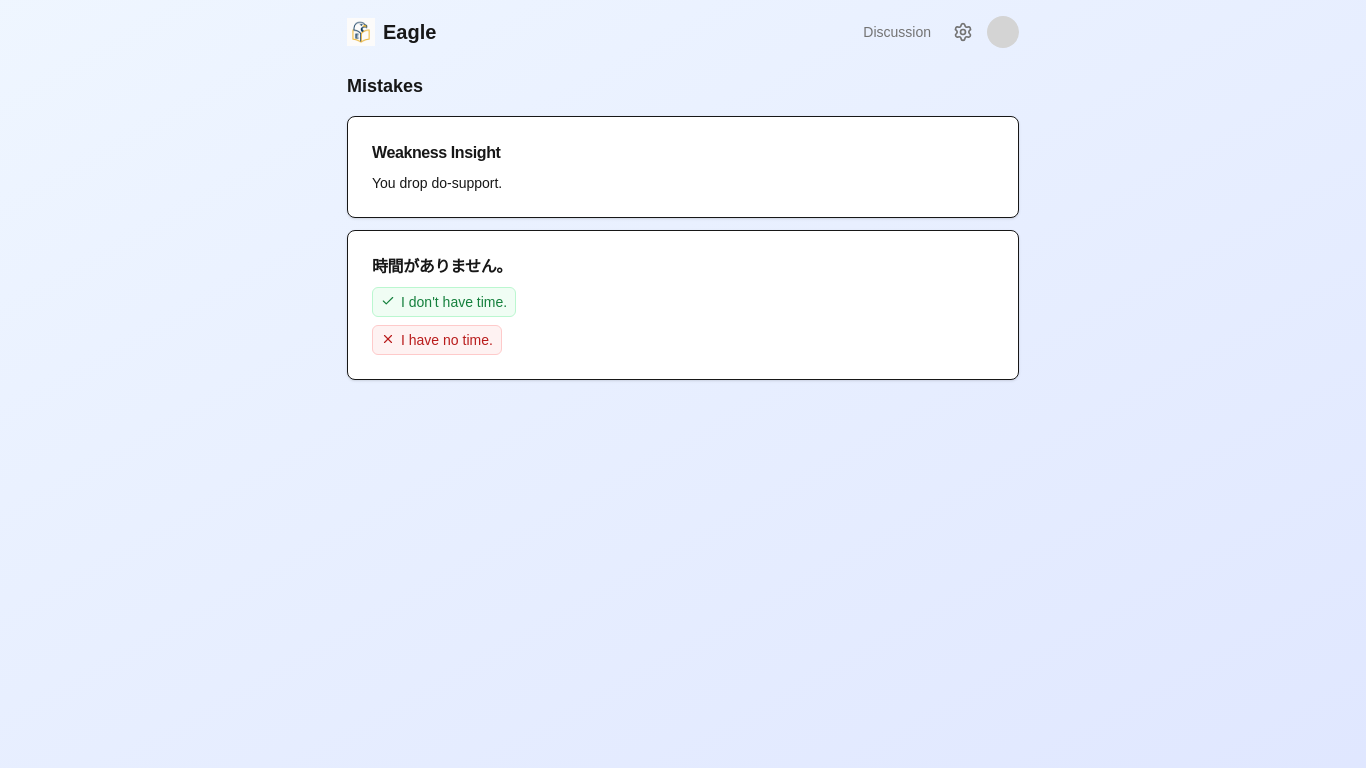
header and settings › reloads the insight in the new language when settings change it
Expected: the heading "時間がありません。" is shown, 372,258 -> 512,275
Expected: the text "You drop do-support." is shown, 372,175 -> 502,191
Click the button named "Settings" at (963, 32), box 947,16 -> 979,48
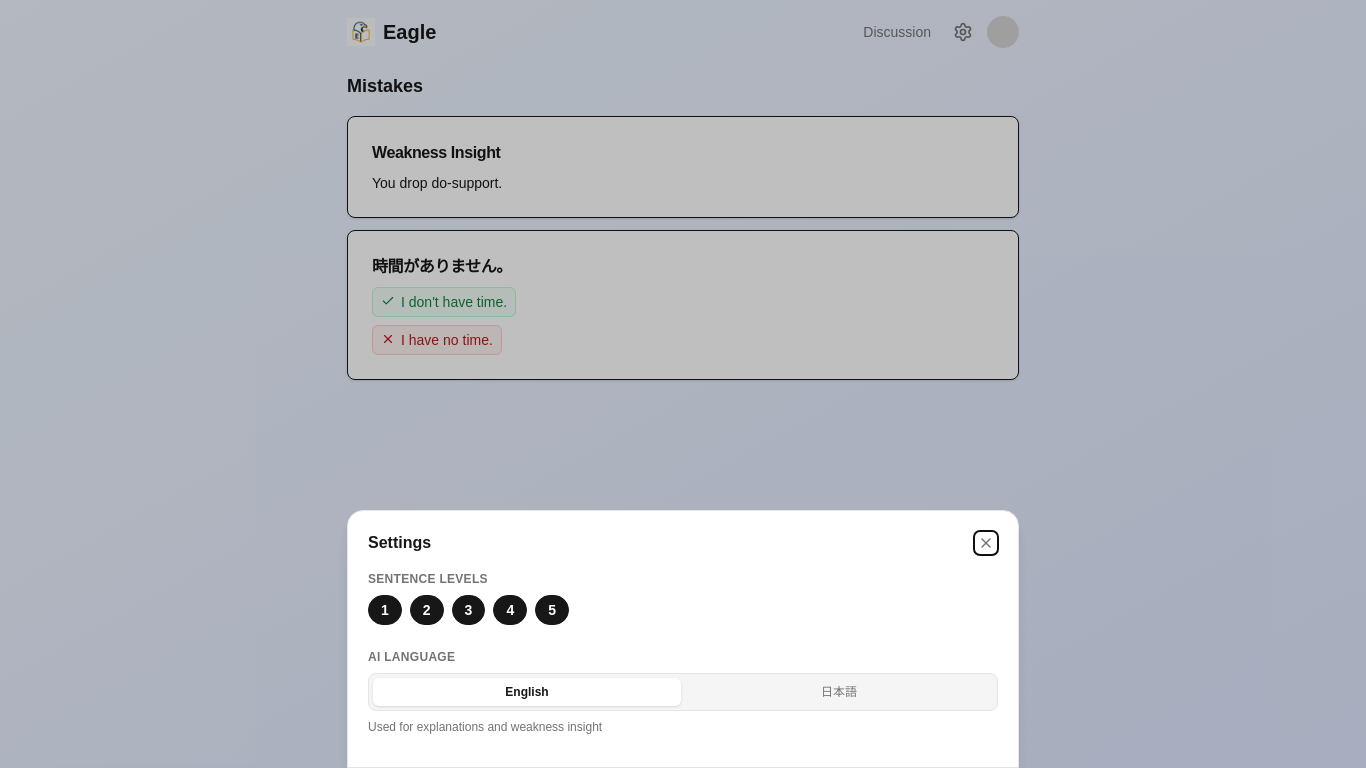
Click the tab "日本語" at (839, 692), box 685,678 -> 993,706
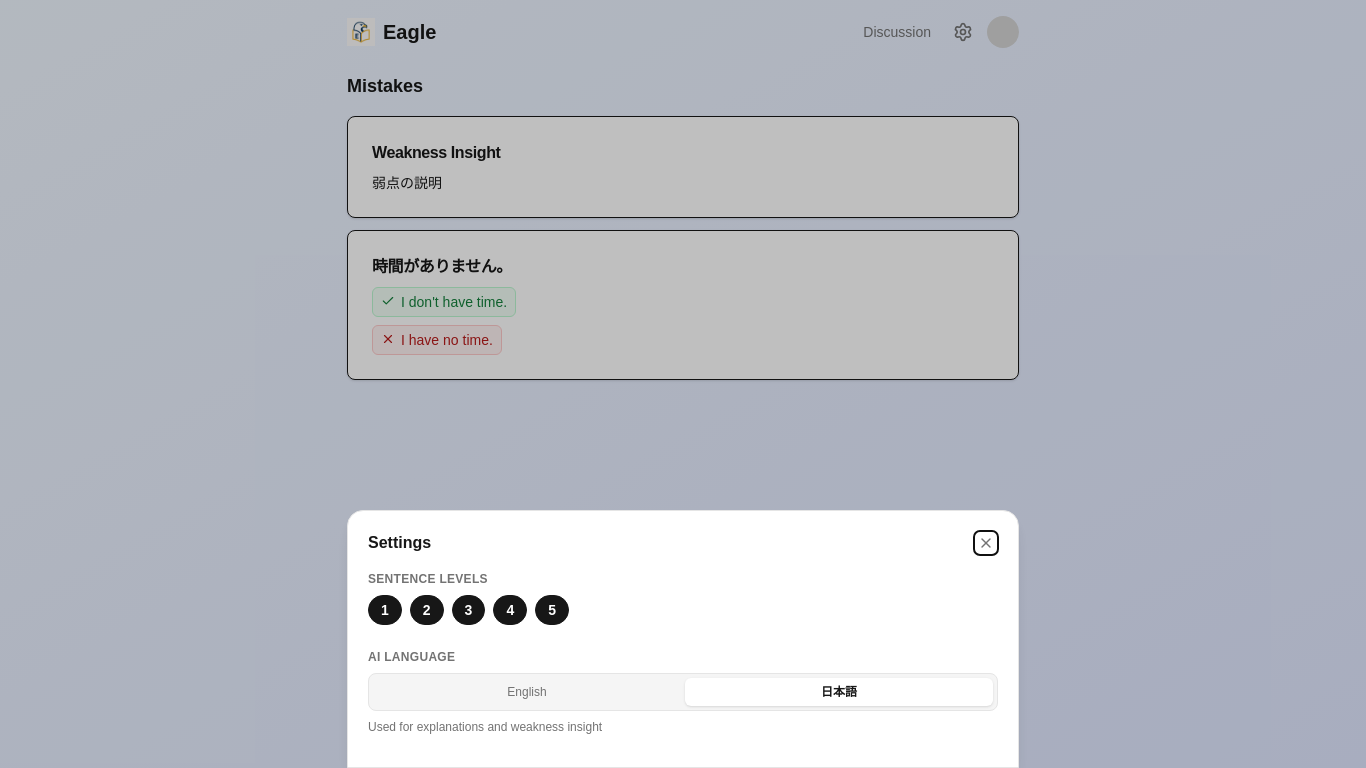
Now the text "弱点の説明" is shown, box 372,175 -> 442,191
